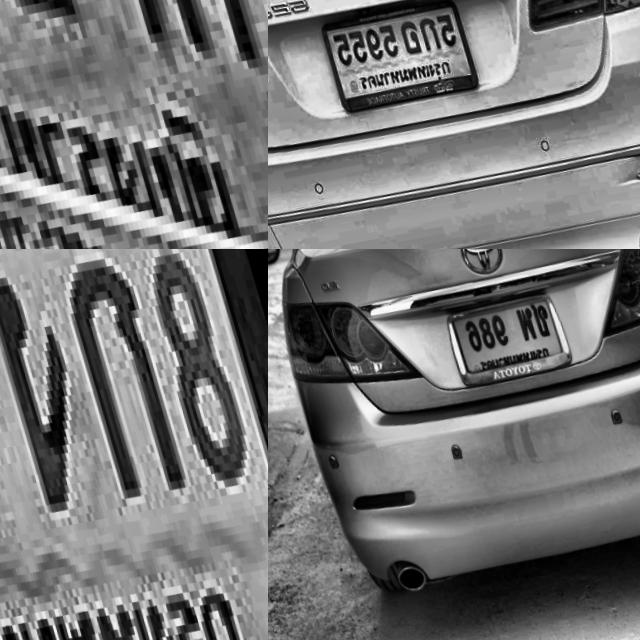license-plate: (0, 249, 268, 640), (0, 0, 268, 249), (308, 0, 478, 118), (428, 271, 578, 402)
